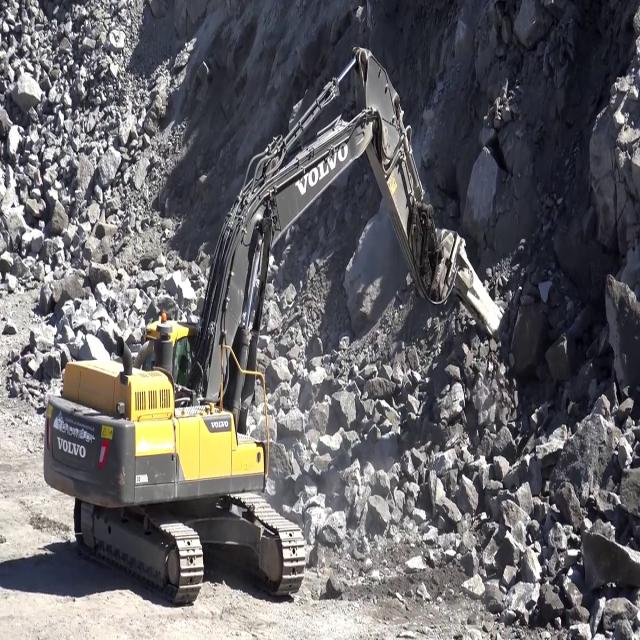excavator: (36, 43, 546, 611)
